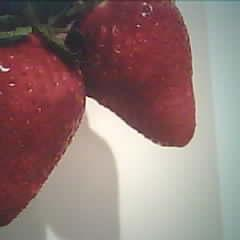straw-ripe: (77, 0, 196, 148), (0, 31, 85, 227)
